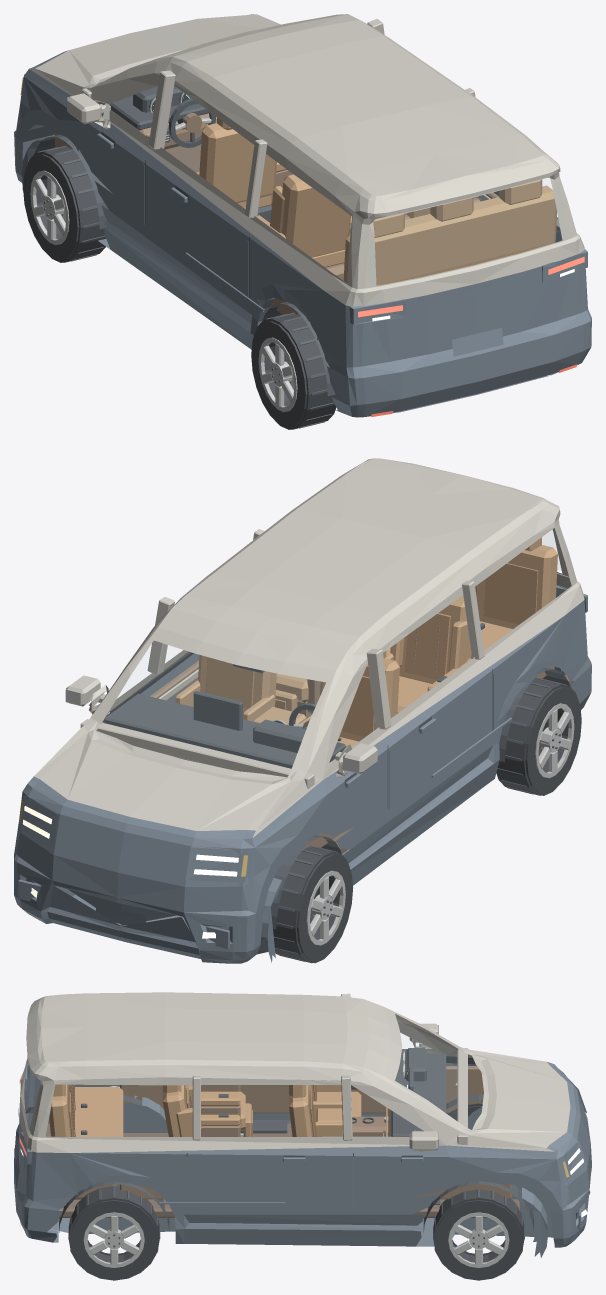
The model's file is OriginalMPV.glb.
3 renders of one model, top to bottom at view 1: azimuth 30°, elevation 25°; view 2: azimuth 150°, elevation 25°; view 3: azimuth 270°, elevation 25°, orthographic. The views are drawn at different scales.
Visible parts, largest first — view 1: Body_SlateBlue, Roof_WarmIvory, Body_WarmIvory, RearBench_SandUpholstery, WheelRearLeft_TireRubber, WheelFrontLeft_TireRubber, CaptainSeatLeft_SandUpholstery, FrontSeatLeft_SandUpholstery, WheelFrontLeft_MatteAlloy, WheelRearLeft_MatteAlloy, Interior_CharcoalTrim, Body_CharcoalTrim (+6 smaller); view 2: Body_SlateBlue, Roof_WarmIvory, Body_WarmIvory, Interior_CharcoalTrim, WheelRearLeft_TireRubber, WheelFrontLeft_TireRubber, CaptainSeatLeft_SandUpholstery, RearBench_SeatInsert, RearBench_SandUpholstery, CaptainSeatLeft_SeatInsert, Body_CharcoalTrim, WheelRearLeft_MatteAlloy (+9 smaller); view 3: Body_SlateBlue, Roof_WarmIvory, Body_WarmIvory, Interior_WalnutDashboard, WheelRearRight_TireRubber, WheelFrontRight_TireRubber, RearBench_SandUpholstery, Interior_CharcoalTrim, WheelRearRight_MatteAlloy, WheelFrontRight_MatteAlloy, CaptainSeatRight_SandUpholstery, Body_CharcoalTrim (+7 smaller).
Part boxes in pixels (x1,y1,x2,y2): Body_SlateBlue: (14,14,591,417); Roof_WarmIvory: (157,14,560,218); Body_WarmIvory: (29,14,584,306); RearBench_SandUpholstery: (343,179,557,285); WheelRearLeft_TireRubber: (251,313,337,429); WheelFrontLeft_TireRubber: (23,146,108,262); CaptainSeatLeft_SandUpholstery: (244,174,351,267); FrontSeatLeft_SandUpholstery: (196,117,276,207); WheelFrontLeft_MatteAlloy: (30,170,69,245); WheelRearLeft_MatteAlloy: (258,337,297,412); Interior_CharcoalTrim: (109,86,482,201); Body_CharcoalTrim: (34,131,335,396); Body_SlateBlue: (14,585,591,963); Roof_WarmIvory: (157,458,560,671); Body_WarmIvory: (34,514,584,837); Interior_CharcoalTrim: (104,664,345,768); WheelRearLeft_TireRubber: (496,678,581,795); WheelFrontLeft_TireRubber: (273,846,352,963); CaptainSeatLeft_SandUpholstery: (385,595,471,713); RearBench_SeatInsert: (484,563,538,624); RearBench_SandUpholstery: (471,537,557,658); CaptainSeatLeft_SeatInsert: (405,613,450,679); Body_CharcoalTrim: (270,667,570,929); WheelRearLeft_MatteAlloy: (535,703,574,778); Body_SlateBlue: (14,1056,591,1257); Roof_WarmIvory: (26,992,391,1080); Body_WarmIvory: (19,993,570,1152); Interior_WalnutDashboard: (120,1066,511,1199); WheelRearRight_TireRubber: (68,1186,159,1280); WheelFrontRight_TireRubber: (433,1189,524,1280); RearBench_SandUpholstery: (49,1084,123,1136); Interior_CharcoalTrim: (240,1048,446,1204); WheelRearRight_MatteAlloy: (83,1212,144,1267); WheelFrontRight_MatteAlloy: (448,1212,509,1267); CaptainSeatRight_SandUpholstery: (162,1085,240,1136); Body_CharcoalTrim: (59,1094,533,1232).
Size of the model in its own units: 2.55 by 2.09 by 5.39.
